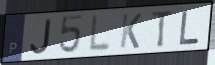5: (57, 13, 84, 57)
J: (28, 17, 54, 56)
K: (118, 12, 144, 50)
L: (87, 13, 113, 54), (178, 9, 202, 47)
T: (150, 8, 174, 49)
